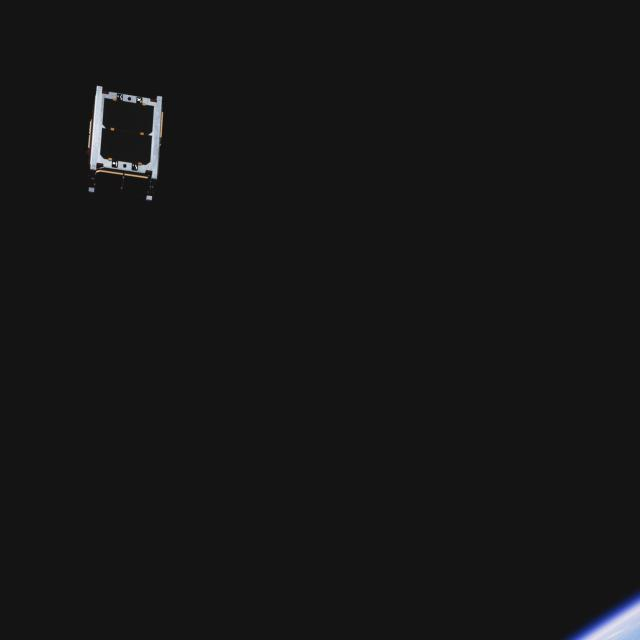medium_debris: (80, 83, 172, 217)
